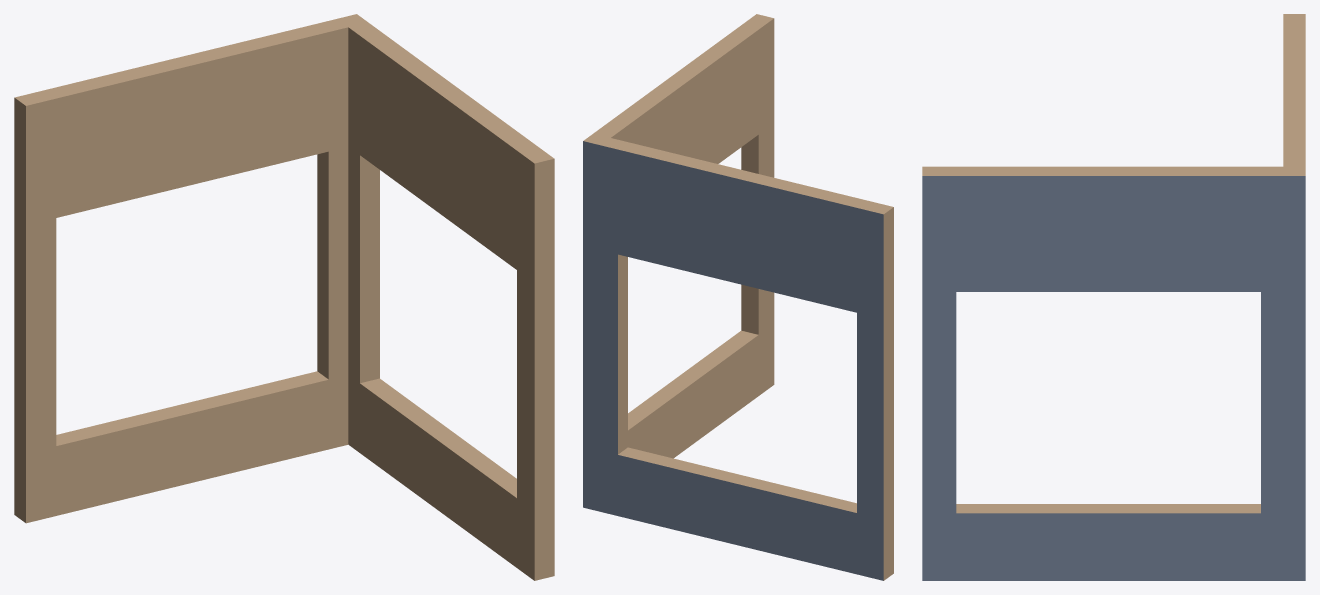
The model's file is Wall3_C3_15.fbx.
3 renders of one model, left to right at view 1: azimuth 30°, elevation 25°; view 2: azimuth 150°, elevation 25°; view 3: azimuth 270°, elevation 25°, orthographic. The views are drawn at different scales.
Parts seen in each view (by area): view 1: Wall3_C3_15; view 2: Wall3_C3_15; view 3: Wall3_C3_15.
Boxes of the visible parts, x1,y1,x2,y2 form: Wall3_C3_15: (14, 14, 554, 580); Wall3_C3_15: (583, 14, 893, 580); Wall3_C3_15: (922, 14, 1305, 580).
Bounding box in the file's own units: 258 × 300 × 258.
